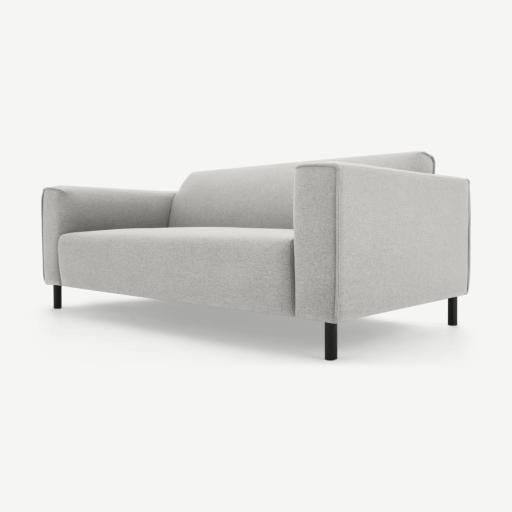back_cushion: (168, 162, 302, 229), (345, 153, 406, 165)
left_arm: (294, 163, 470, 323)
legs: (325, 324, 337, 360), (448, 298, 456, 322), (53, 285, 61, 309)
one-seater: (0, 0, 511, 512)
right_arm: (43, 186, 176, 285)
seat_cushion: (56, 227, 295, 315)
